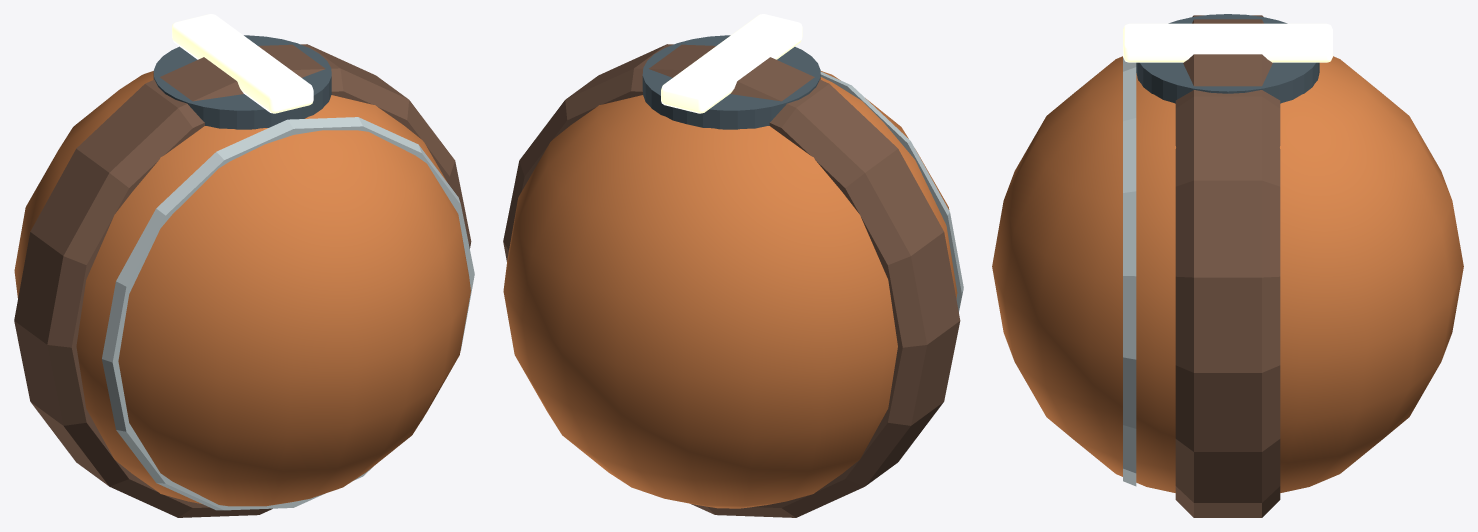
File: grenade.glb
3 renders of one model, left to right at view 1: azimuth 30°, elevation 25°; view 2: azimuth 150°, elevation 25°; view 3: azimuth 270°, elevation 25°, orthographic. The views are drawn at different scales.
Parts seen in each view (by area): view 1: grenade / body / grenade identity shell, grenade / body / grenade dark structure, grenade / body / Brushed silver ceramic, grenade / fuse / grenade emissive insert, grenade / fuse / Titanium recess; view 2: grenade / body / grenade identity shell, grenade / body / grenade dark structure, grenade / fuse / grenade emissive insert, grenade / fuse / Titanium recess, grenade / body / Brushed silver ceramic; view 3: grenade / body / grenade identity shell, grenade / body / grenade dark structure, grenade / fuse / grenade emissive insert, grenade / body / Brushed silver ceramic, grenade / fuse / Titanium recess.
Boxes of the visible parts, x1,y1,x2,y2 form: grenade / body / grenade identity shell: [14, 71, 470, 506]; grenade / body / grenade dark structure: [14, 44, 471, 517]; grenade / body / Brushed silver ceramic: [102, 117, 474, 510]; grenade / fuse / grenade emissive insert: [172, 14, 313, 113]; grenade / fuse / Titanium recess: [153, 35, 331, 129]; grenade / body / grenade identity shell: [503, 71, 957, 508]; grenade / body / grenade dark structure: [503, 44, 960, 517]; grenade / fuse / grenade emissive insert: [661, 14, 802, 113]; grenade / fuse / Titanium recess: [642, 35, 820, 129]; grenade / body / Brushed silver ceramic: [820, 71, 963, 311]; grenade / body / grenade identity shell: [992, 56, 1463, 493]; grenade / body / grenade dark structure: [1175, 15, 1280, 517]; grenade / fuse / grenade emissive insert: [1123, 23, 1332, 62]; grenade / body / Brushed silver ceramic: [1123, 57, 1136, 486]; grenade / fuse / Titanium recess: [1136, 14, 1319, 103].
Size of the model in its own units: 19.2 by 19.45 by 18.
